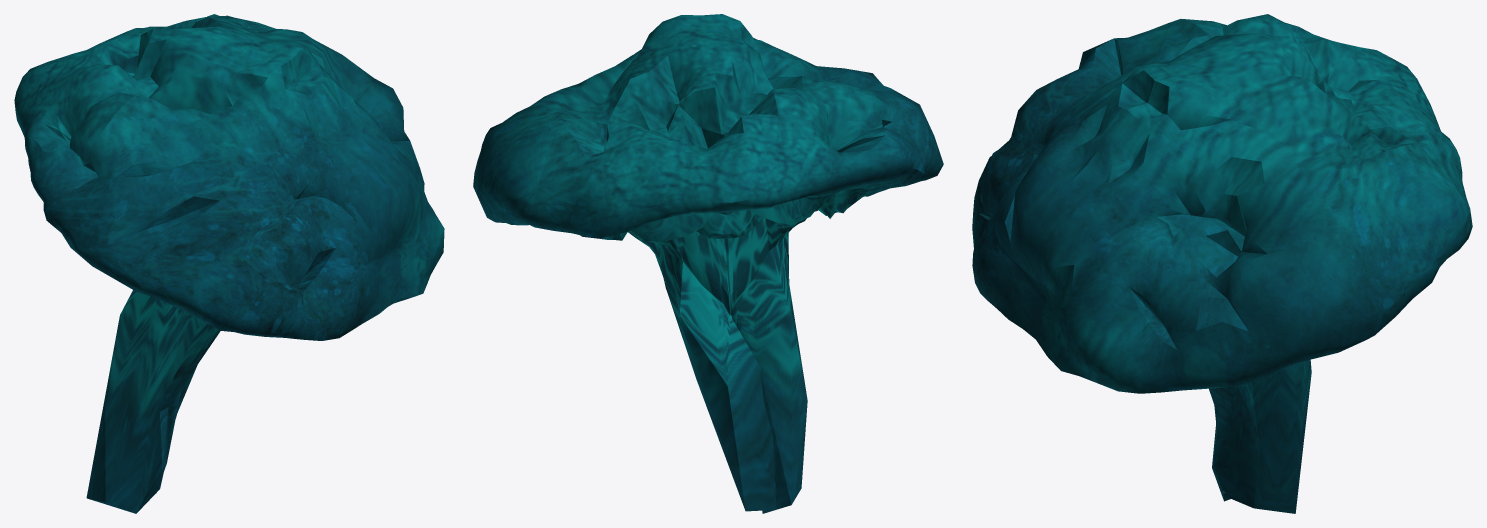
Rendered from mush.gltf.
3 views of the same model, side by side, from view 1: azimuth 30°, elevation 25°; view 2: azimuth 150°, elevation 25°; view 3: azimuth 270°, elevation 25° (orthographic). The views are drawn at different scales.
Size of the model in its own units: 199 by 216 by 195.
Materials: 1 (1 with a texture image).
